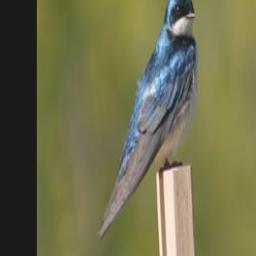Swallow: (97, 0, 200, 245)
